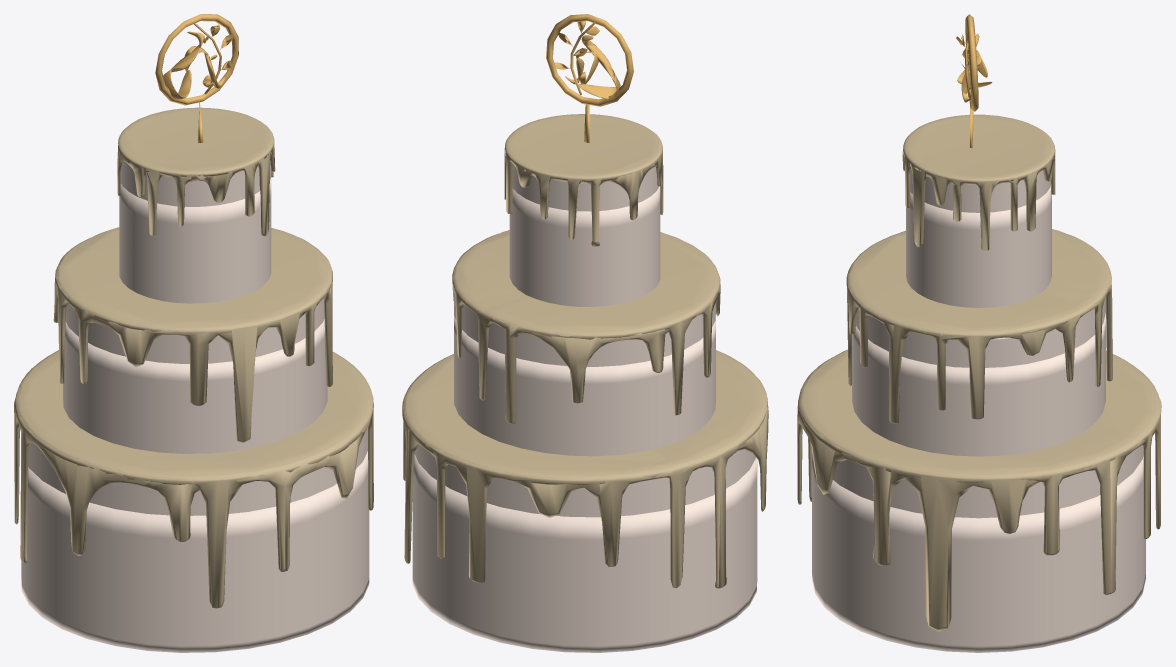
File: 3-tier-white-ganache-ring.glb
3 views of the same model, side by side, from view 1: azimuth 30°, elevation 25°; view 2: azimuth 150°, elevation 25°; view 3: azimuth 270°, elevation 25° (orthographic).
Visible parts, largest first — view 1: Cylinder.022, tHE ICING.005, Cylinder.014, tHE ICING.002, Cylinder.021, tHE ICING.001, Cylinder.020; view 2: Cylinder.022, tHE ICING.005, Cylinder.014, tHE ICING.002, Cylinder.021, tHE ICING.001, Cylinder.020; view 3: Cylinder.022, tHE ICING.005, Cylinder.014, tHE ICING.002, Cylinder.021, tHE ICING.001, Cylinder.020.
Boxes of the visible parts, x1,y1,x2,y2 form: Cylinder.022: [21, 427, 369, 652]; tHE ICING.005: [14, 350, 373, 608]; Cylinder.014: [63, 298, 327, 453]; tHE ICING.002: [53, 227, 332, 443]; Cylinder.021: [119, 160, 271, 303]; tHE ICING.001: [117, 107, 275, 236]; Cylinder.020: [155, 14, 238, 143]; Cylinder.022: [412, 444, 757, 652]; tHE ICING.005: [402, 350, 768, 588]; Cylinder.014: [454, 290, 715, 456]; tHE ICING.002: [452, 230, 720, 423]; Cylinder.021: [509, 164, 660, 306]; tHE ICING.001: [504, 114, 663, 246]; Cylinder.020: [546, 14, 633, 142]; Cylinder.022: [812, 445, 1145, 652]; tHE ICING.005: [797, 349, 1161, 631]; Cylinder.014: [852, 296, 1105, 456]; tHE ICING.002: [846, 229, 1112, 423]; Cylinder.021: [906, 168, 1051, 307]; tHE ICING.001: [902, 114, 1055, 250]; Cylinder.020: [956, 14, 992, 148].
Size of the model in its own units: 4.33 by 7.52 by 4.43.
